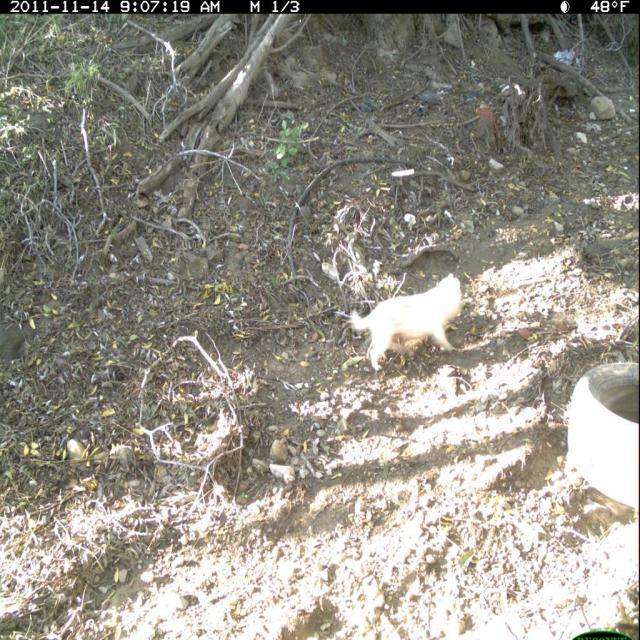dog: (344, 270, 479, 381)
